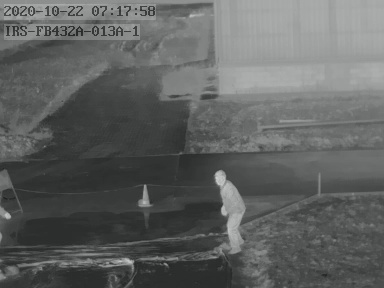person: (213, 168, 248, 254)
